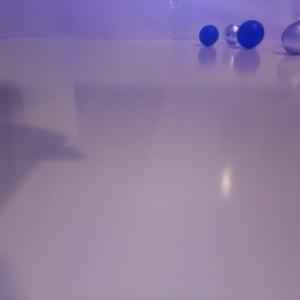alive_ball: (281, 21, 299, 54), (222, 24, 242, 45)
dead_ball: (237, 20, 265, 48), (199, 25, 219, 46)
